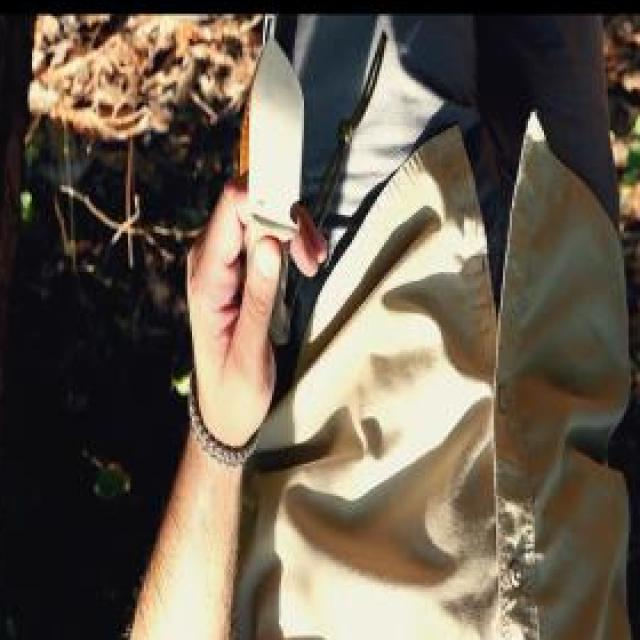knife: (183, 26, 329, 352)
